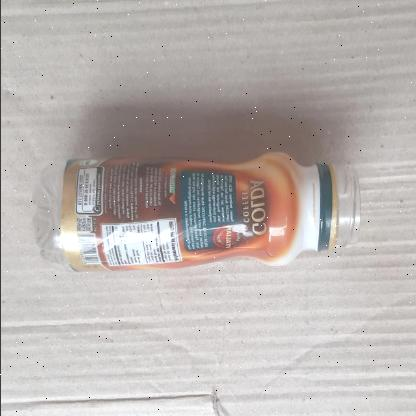Plastic Bottle: (31, 150, 360, 274)
